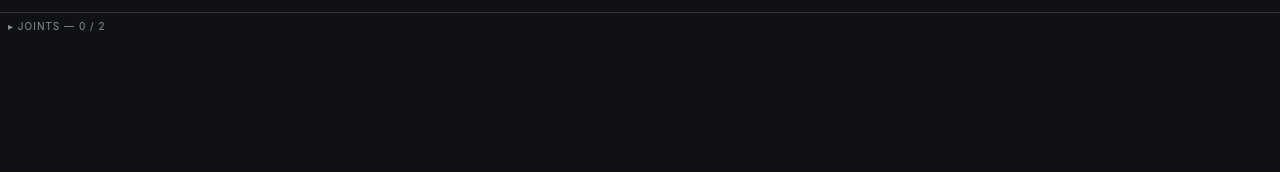
renders one row per pair, not one per suggestion
Click the button "▸ Joints — 0 / 2" at x=46, y=26, box x1=8 y1=13 x2=1272 y2=40
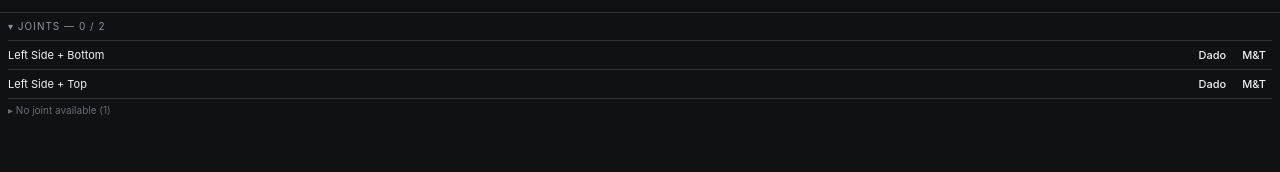
Now the text "Left Side + Bottom" is shown, box x1=8 y1=48 x2=104 y2=62
Now the text "Left Side + Top" is shown, box x1=8 y1=77 x2=87 y2=91
